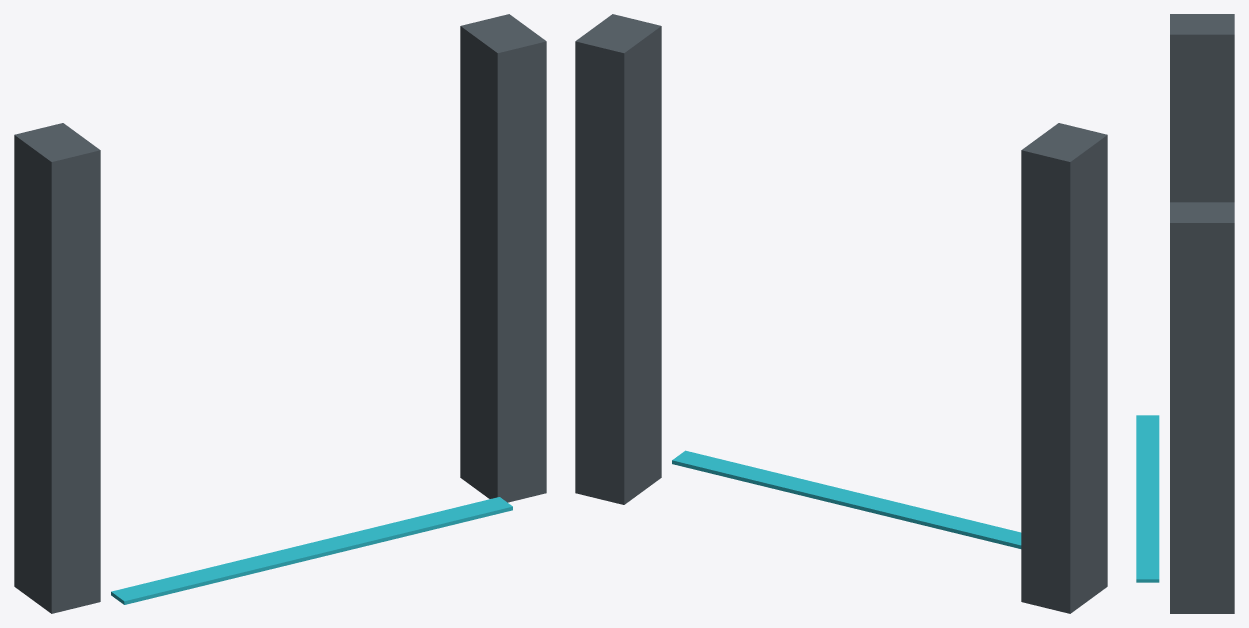
Rendered from door.subroom_swing_clear.glb.
The picture shows the model from 3 angles, left to right: view 1: azimuth 30°, elevation 25°; view 2: azimuth 150°, elevation 25°; view 3: azimuth 270°, elevation 25°; orthographic projection. The views are drawn at different scales.
Visible parts, largest first — view 1: left_jamb, right_jamb, swing_arc; view 2: left_jamb, right_jamb, swing_arc; view 3: right_jamb, left_jamb, swing_arc.
Part boxes in pixels (<box>): left_jamb: <box>14,123,100,613</box>; right_jamb: <box>460,14,546,502</box>; swing_arc: <box>111,497,512,604</box>; left_jamb: <box>1021,123,1107,613</box>; right_jamb: <box>575,14,661,504</box>; swing_arc: <box>672,450,1021,548</box>; right_jamb: <box>1170,202,1234,613</box>; left_jamb: <box>1170,14,1234,202</box>; swing_arc: <box>1136,415,1159,582</box>.
Size of the model in its own units: 3.44 by 3 by 0.685.
